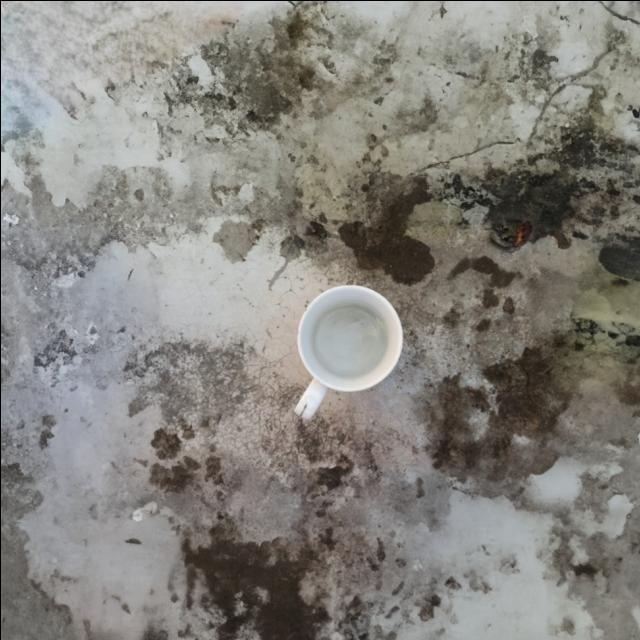Breeding Place: (235, 236, 453, 448)
